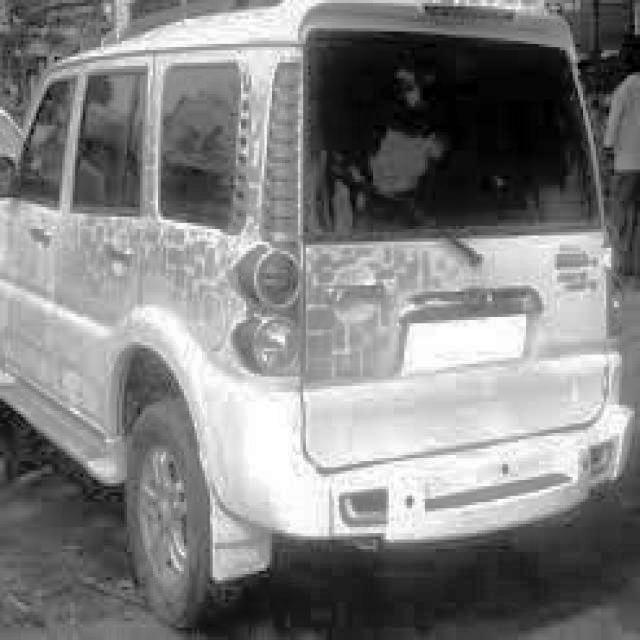Car: (0, 9, 637, 621)
